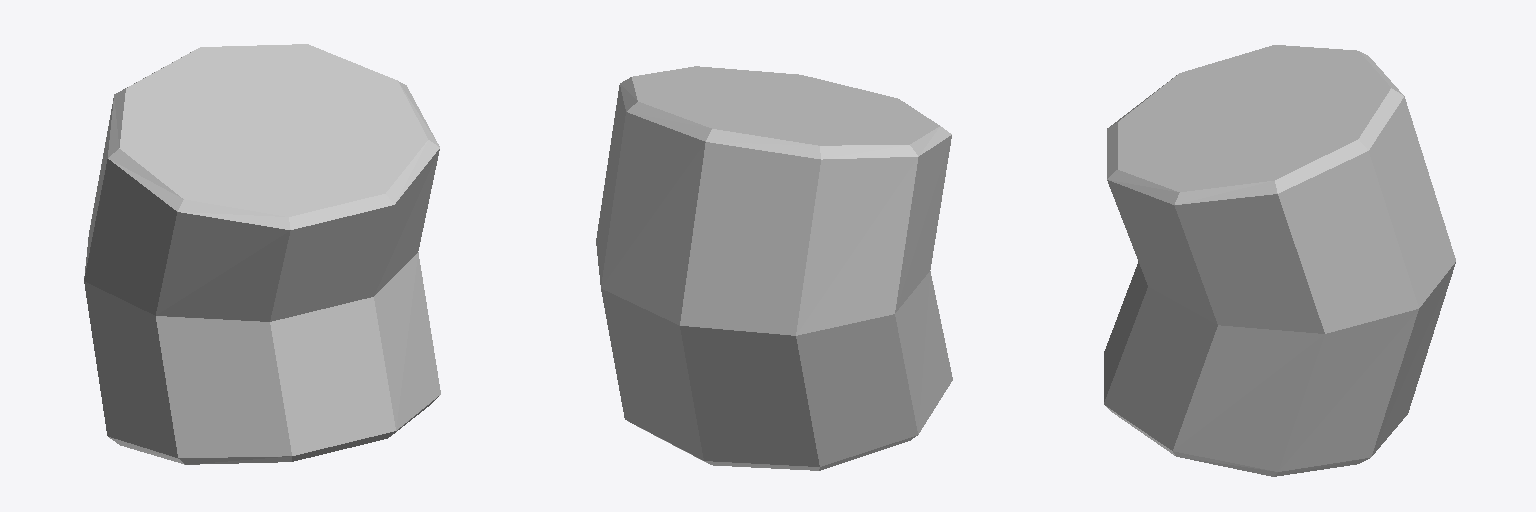
File: can_crushed.obj
3 renders of one model, left to right at view 1: azimuth 30°, elevation 25°; view 2: azimuth 150°, elevation 25°; view 3: azimuth 270°, elevation 25°, orthographic.
Visible parts, largest first — view 1: crushed can; view 2: crushed can; view 3: crushed can.
Part boxes in pixels (bbox=[...]): crushed can: bbox=[84, 44, 440, 464]; crushed can: bbox=[596, 66, 952, 470]; crushed can: bbox=[1104, 45, 1455, 476].
Bounding box in the file's own units: 0.181 × 0.1945 × 0.185.